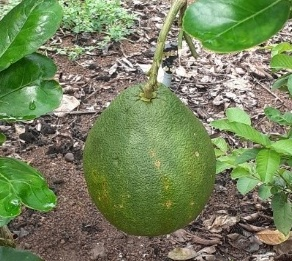Buoi: (84, 79, 218, 239)
